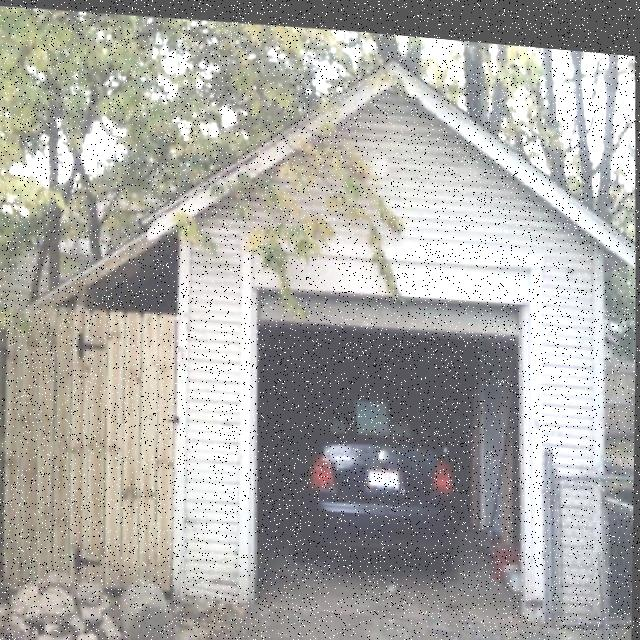license_plate: (369, 458, 400, 484)
